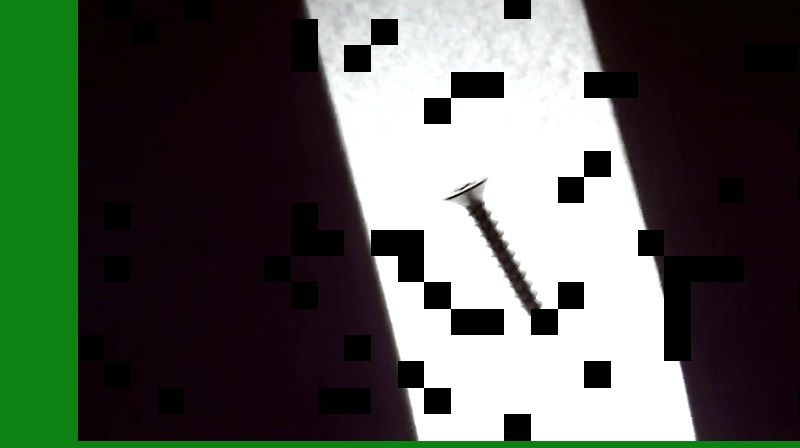S001: (437, 168, 547, 327)
